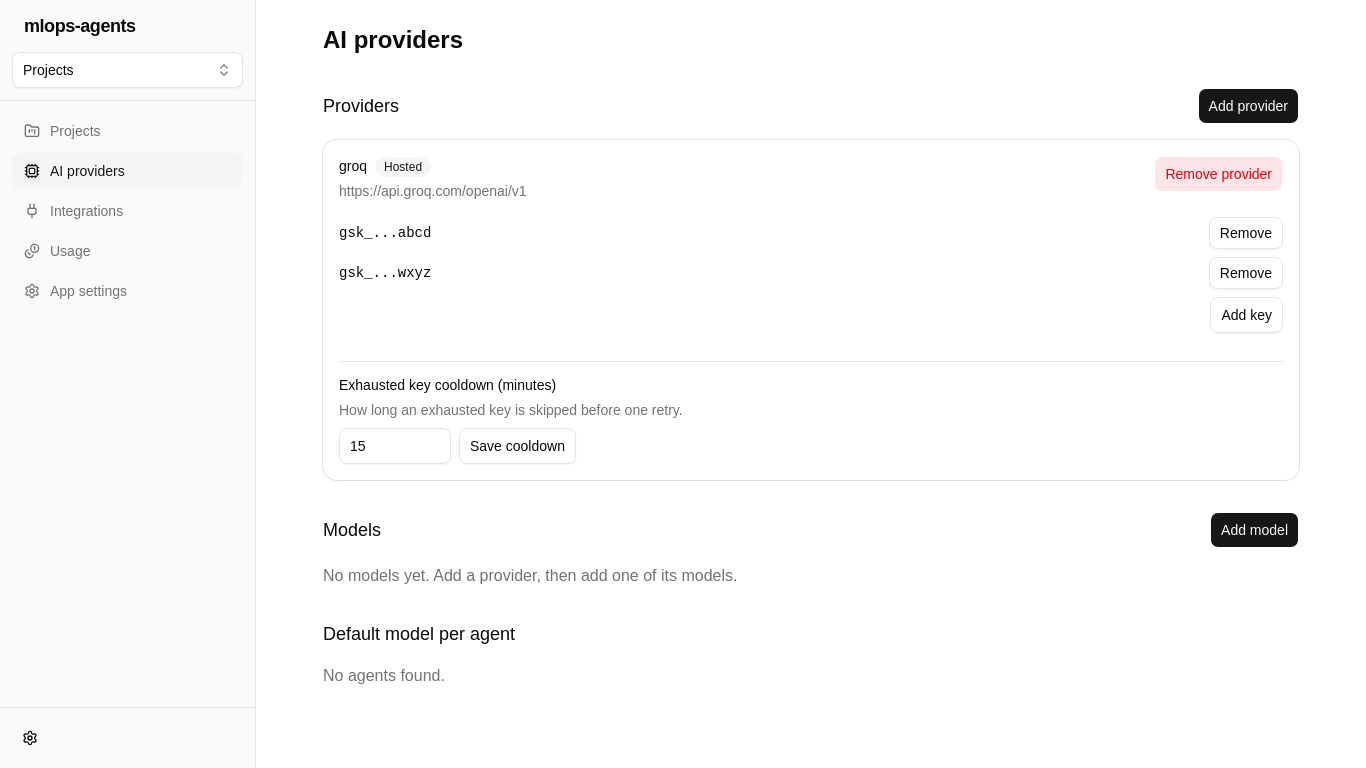
Test: AI providers page › asks before removing a provider
What coordinates should you click on to do the following:
click the button with aria-label "Remove provider groq"
I would click on:
 (1219, 174)
Its box is [1154, 156, 1283, 192].
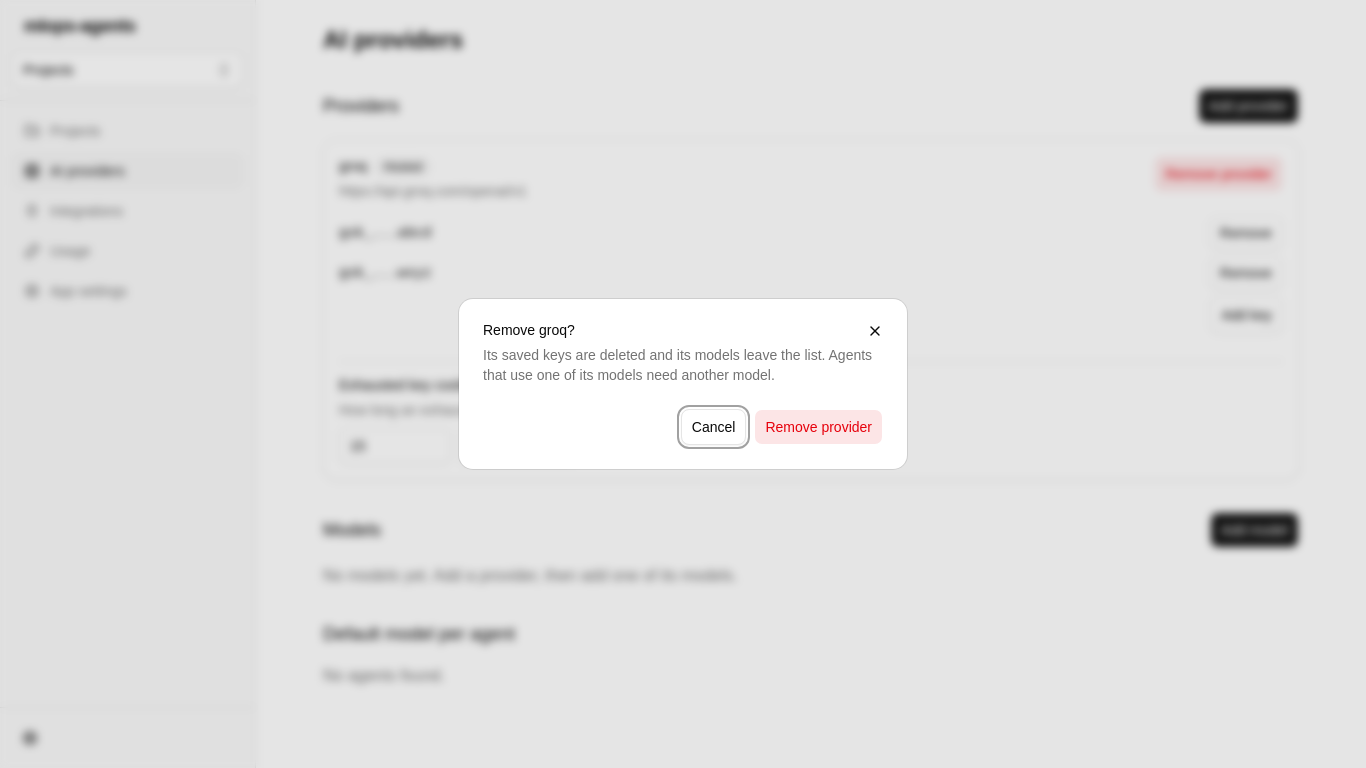
What coordinates should you click on to do the following:
click the button "Remove provider"
I would click on:
 (819, 427)
Its box is [754, 409, 883, 445].
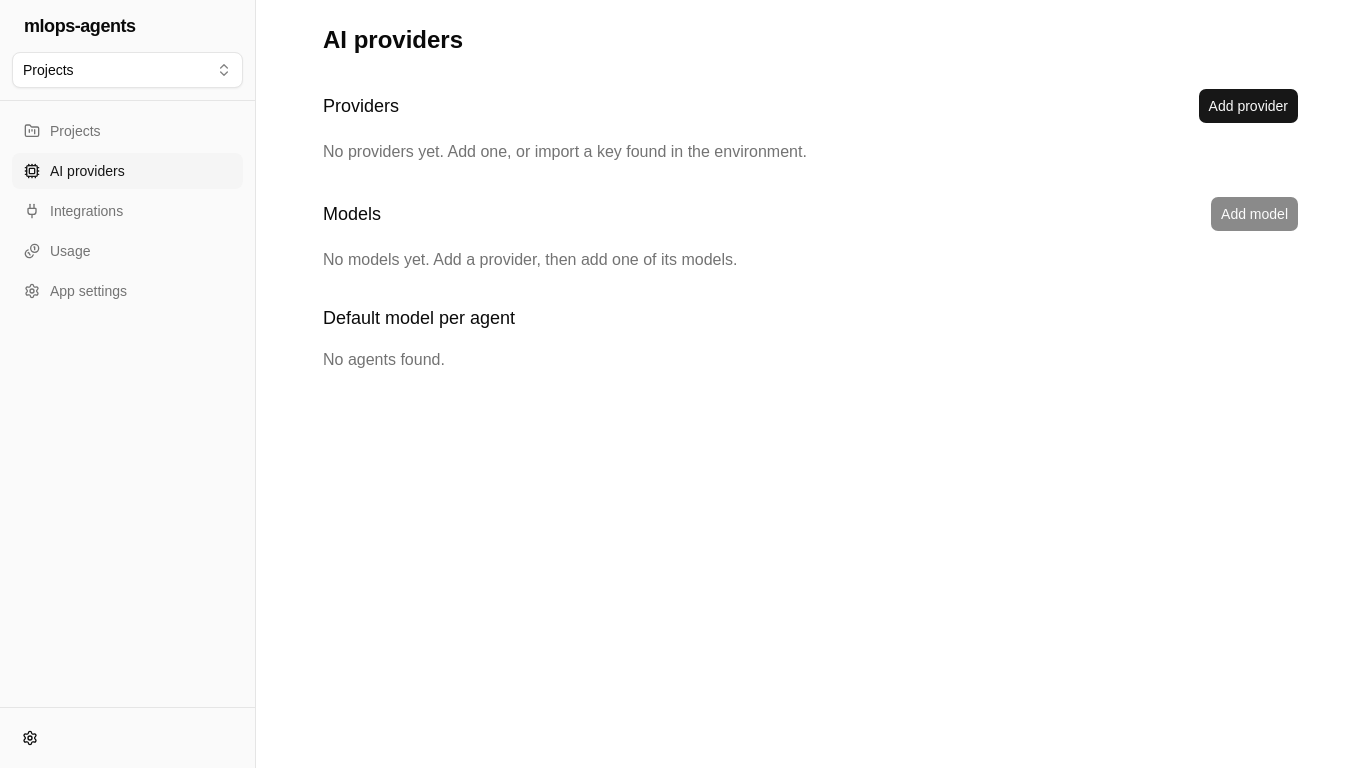
expect the heading "groq" is gone: met
